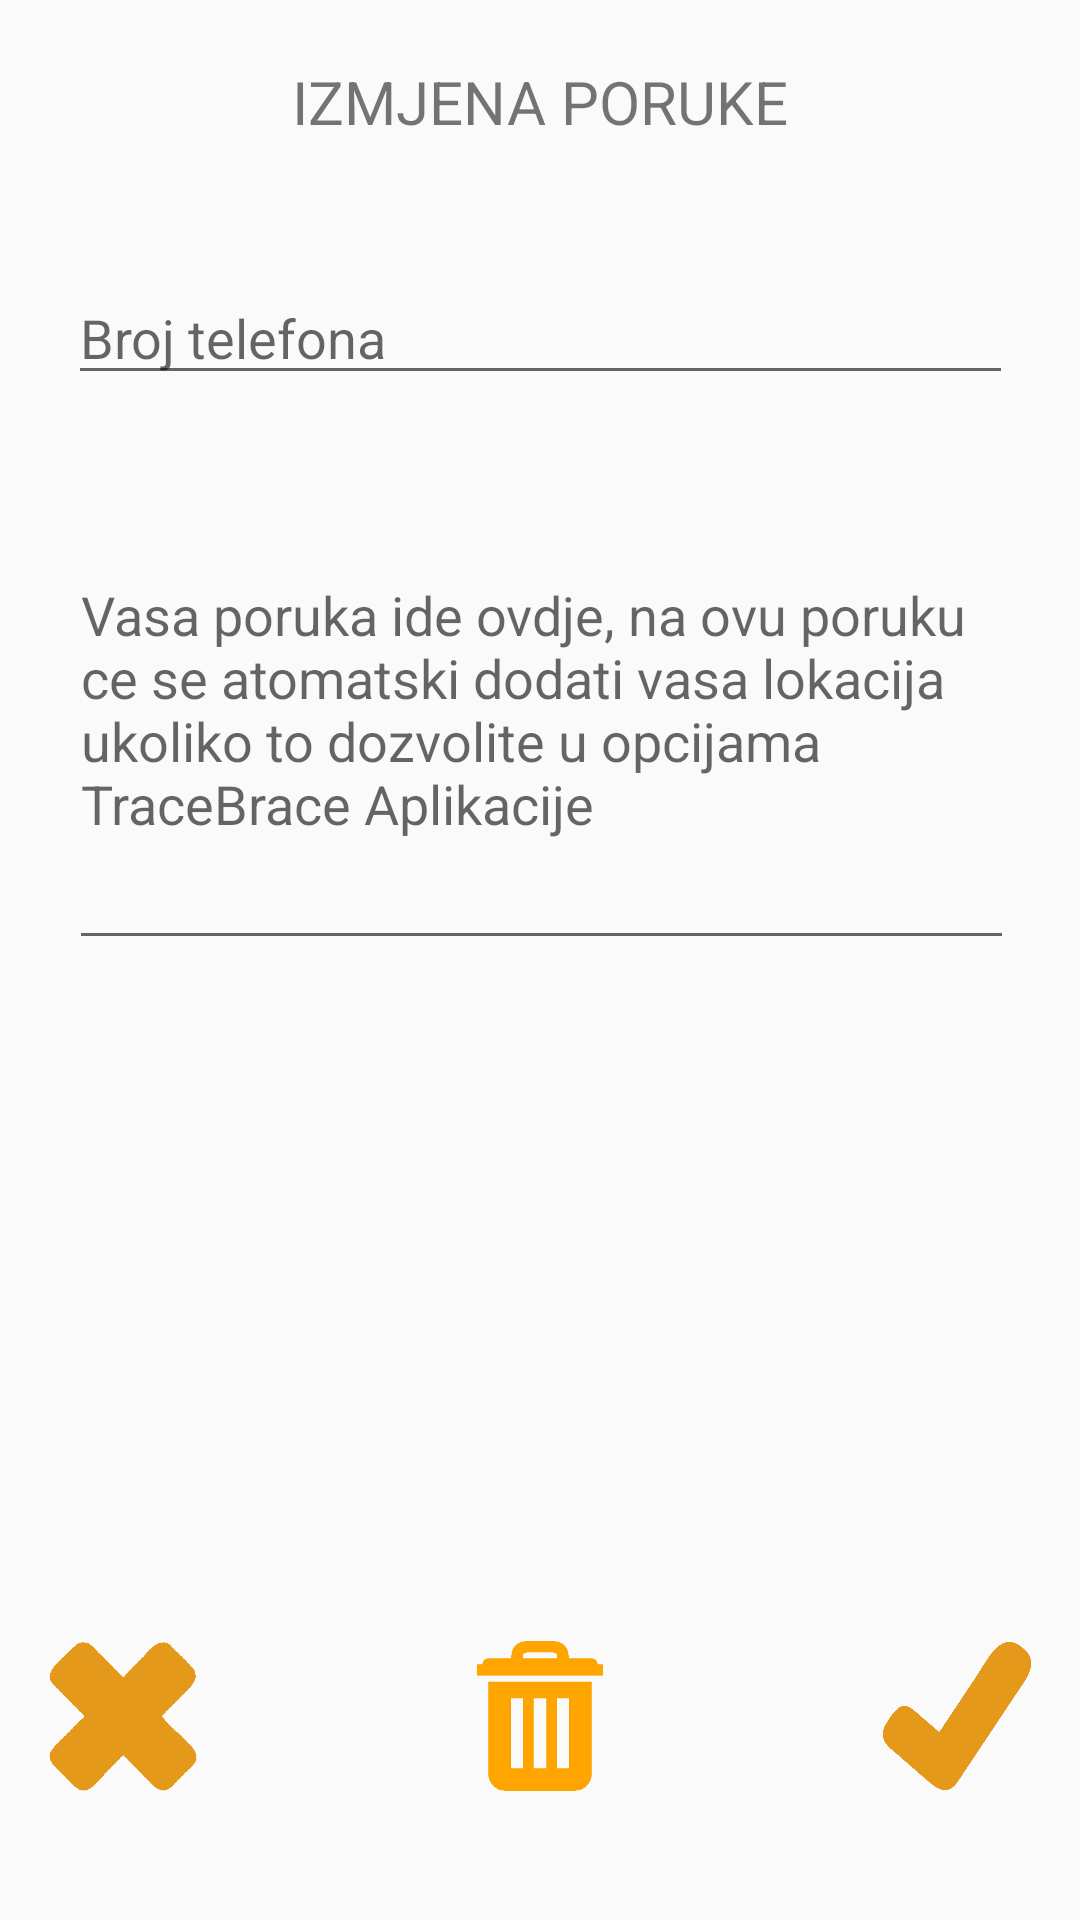

Point at icon controls on the screen. Image size 1080×1920, points as (x,y).
check: (957,1716)
not: (123,1716)
trash: (540,1716)
